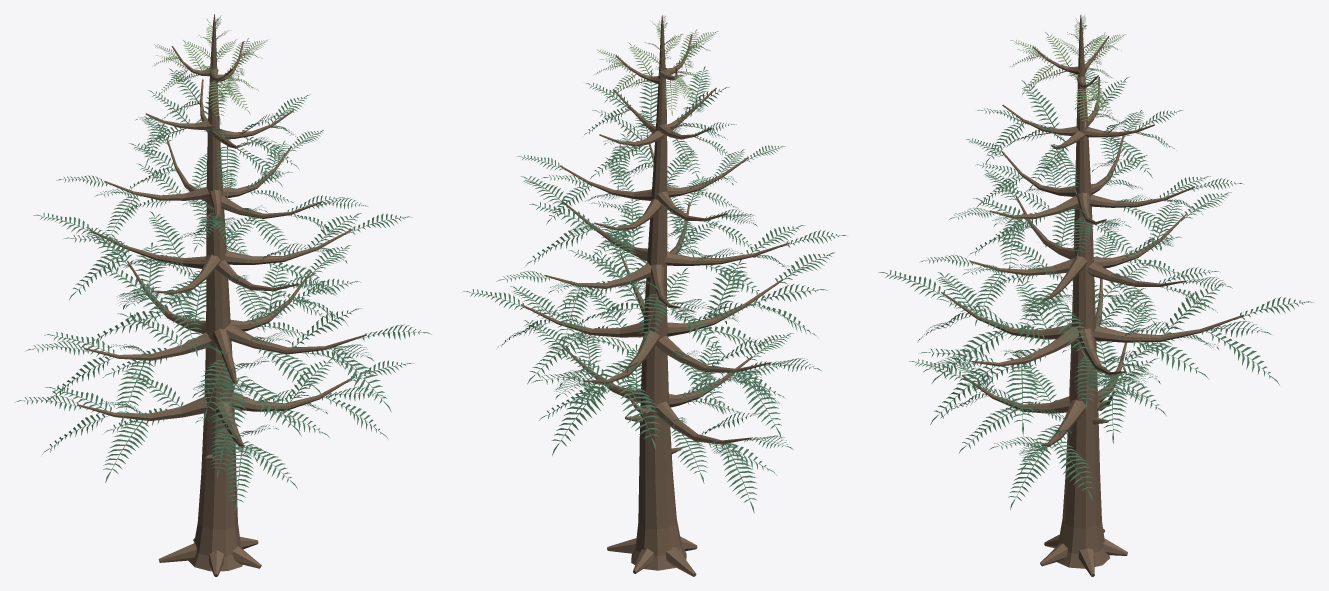
Rendered from conifer-tree.glb.
3 renders of one model, left to right at view 1: azimuth 30°, elevation 25°; view 2: azimuth 150°, elevation 25°; view 3: azimuth 270°, elevation 25°, orthographic.
Visible parts, largest first — view 1: Conifer | user-selected separated feather-needle A, Conifer | unchanged r12 main wood and small upper twig suppo; view 2: Conifer | user-selected separated feather-needle A, Conifer | unchanged r12 main wood and small upper twig suppo; view 3: Conifer | user-selected separated feather-needle A, Conifer | unchanged r12 main wood and small upper twig suppo.
Boxes of the visible parts, bbox=[...] form: Conifer | user-selected separated feather-needle A: bbox=[14, 15, 431, 512]; Conifer | unchanged r12 main wood and small upper twig suppo: bbox=[77, 14, 366, 576]; Conifer | user-selected separated feather-needle A: bbox=[463, 16, 847, 513]; Conifer | unchanged r12 main wood and small upper twig suppo: bbox=[521, 15, 789, 576]; Conifer | user-selected separated feather-needle A: bbox=[878, 15, 1314, 509]; Conifer | unchanged r12 main wood and small upper twig suppo: bbox=[941, 15, 1244, 576].
Size of the model in its own units: 4.66 by 7.04 by 5.17.
